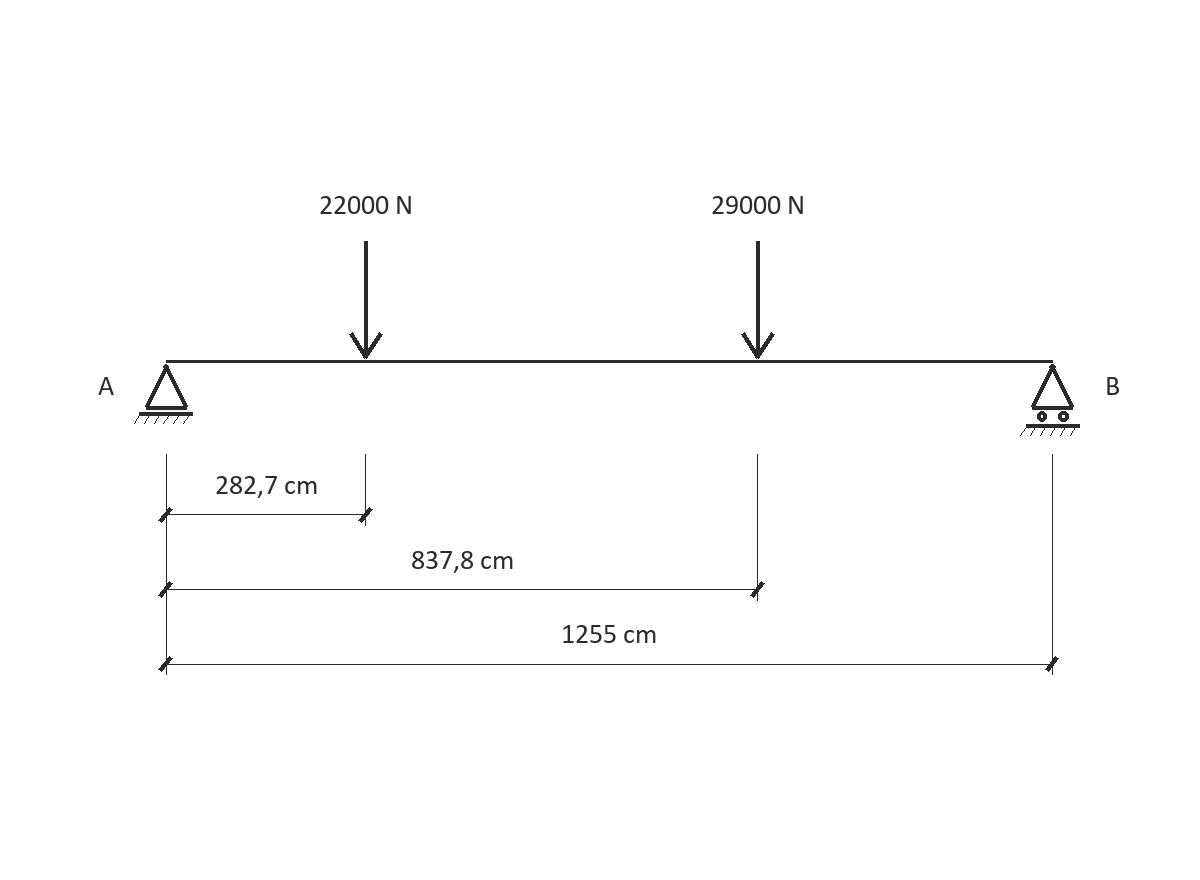pin_support: (134, 364, 193, 424)
point_load: (349, 241, 383, 359), (741, 241, 775, 359)
roller_support: (1020, 364, 1080, 436)
